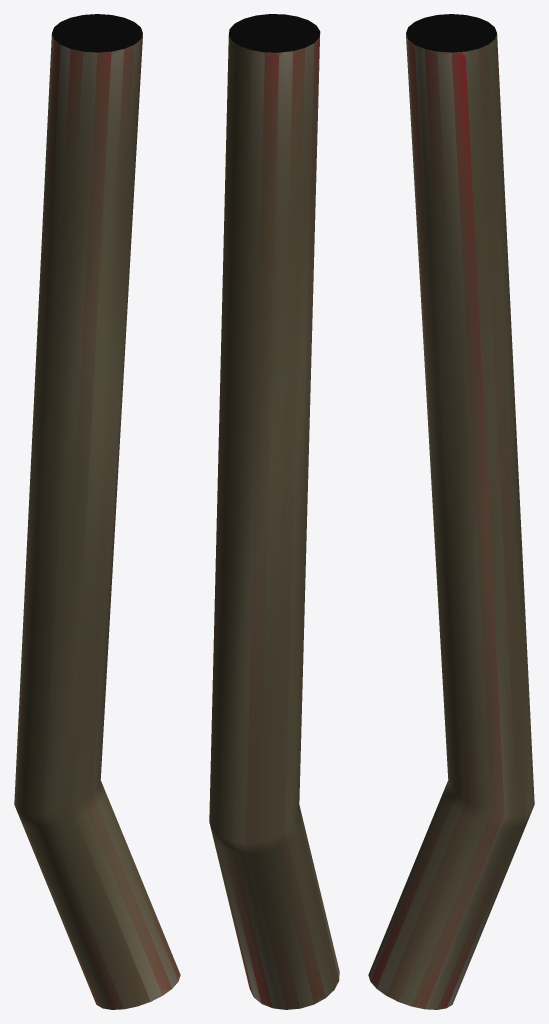
The model's file is sutoro.fbx.
The picture shows the model from 3 angles, left to right: view 1: azimuth 90°, elevation 25°; view 2: azimuth 150°, elevation 25°; view 3: azimuth 270°, elevation 25°; orthographic projection.
Visible parts, largest first — view 1: pCylinder1; view 2: pCylinder1; view 3: pCylinder1.
Part boxes in pixels (x1=…): pCylinder1: x1=14, y1=14, x2=180, y2=1009; pCylinder1: x1=209, y1=14, x2=339, y2=1009; pCylinder1: x1=368, y1=14, x2=534, y2=1009.
Size of the model in its own units: 0.3143 by 3.67 by 0.5728.
Materials: 1 (1 with a texture image).
